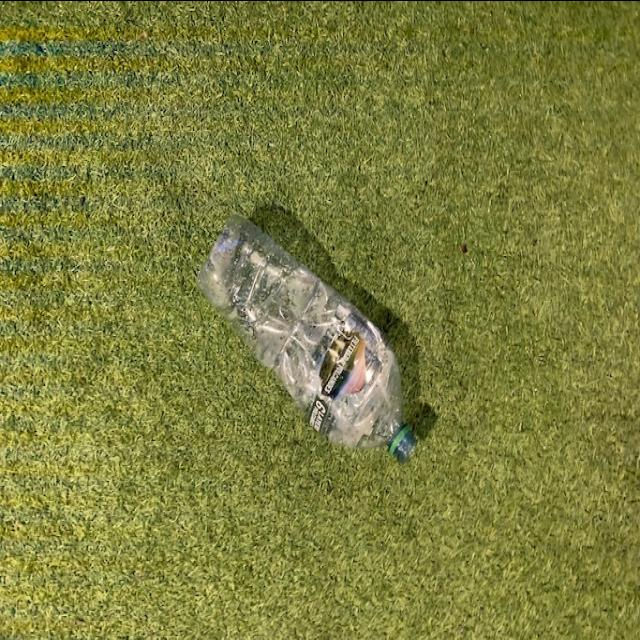litter: (193, 208, 425, 464)
